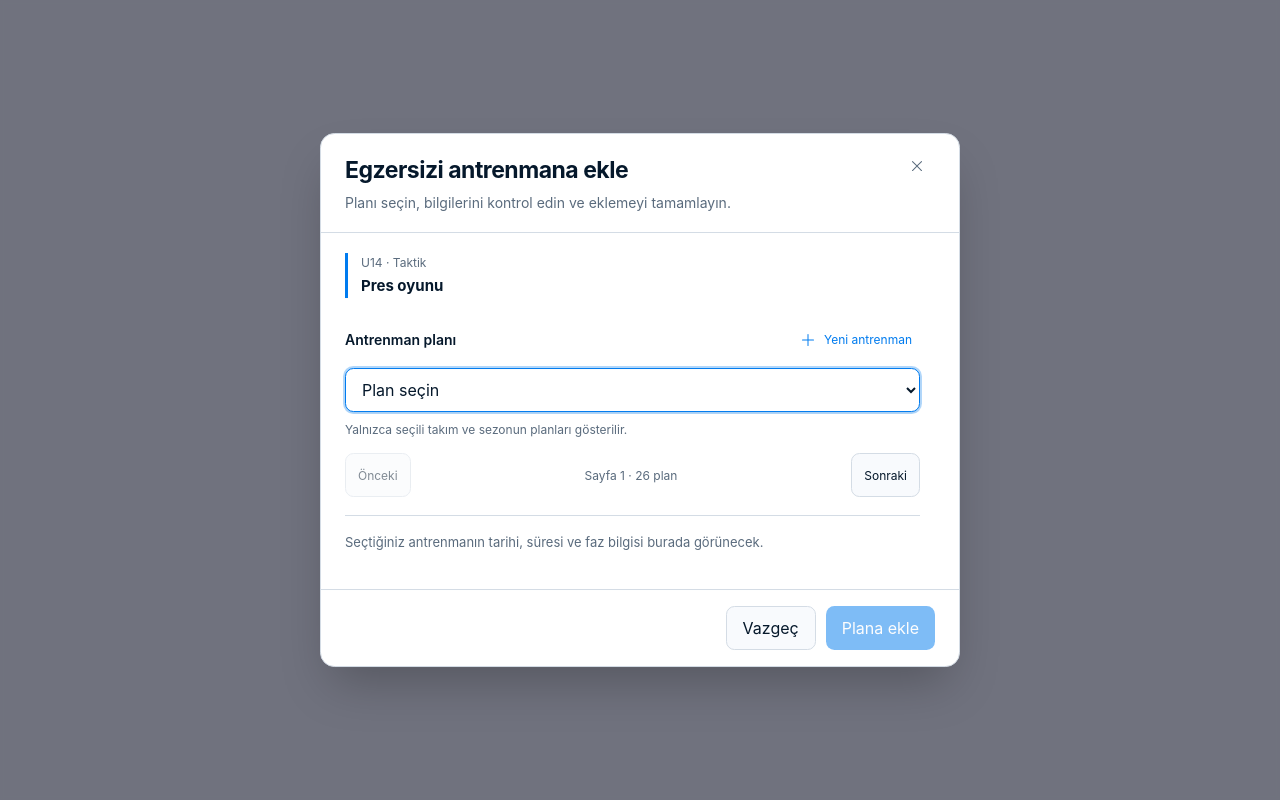
Test case: ready exercise planning › keeps the chosen plan and exercise context when browsing another option page
This screenshot has width=1280, height=800.
Expected: the element named "Eklenecek egzersiz" reads "U14 · Taktik Pres oyunu", [345,253,920,298]
Select "Salı antrenmanı" in the dropdown labelled "Antrenman planı". click: (632, 390)
box: [345,368,920,412]
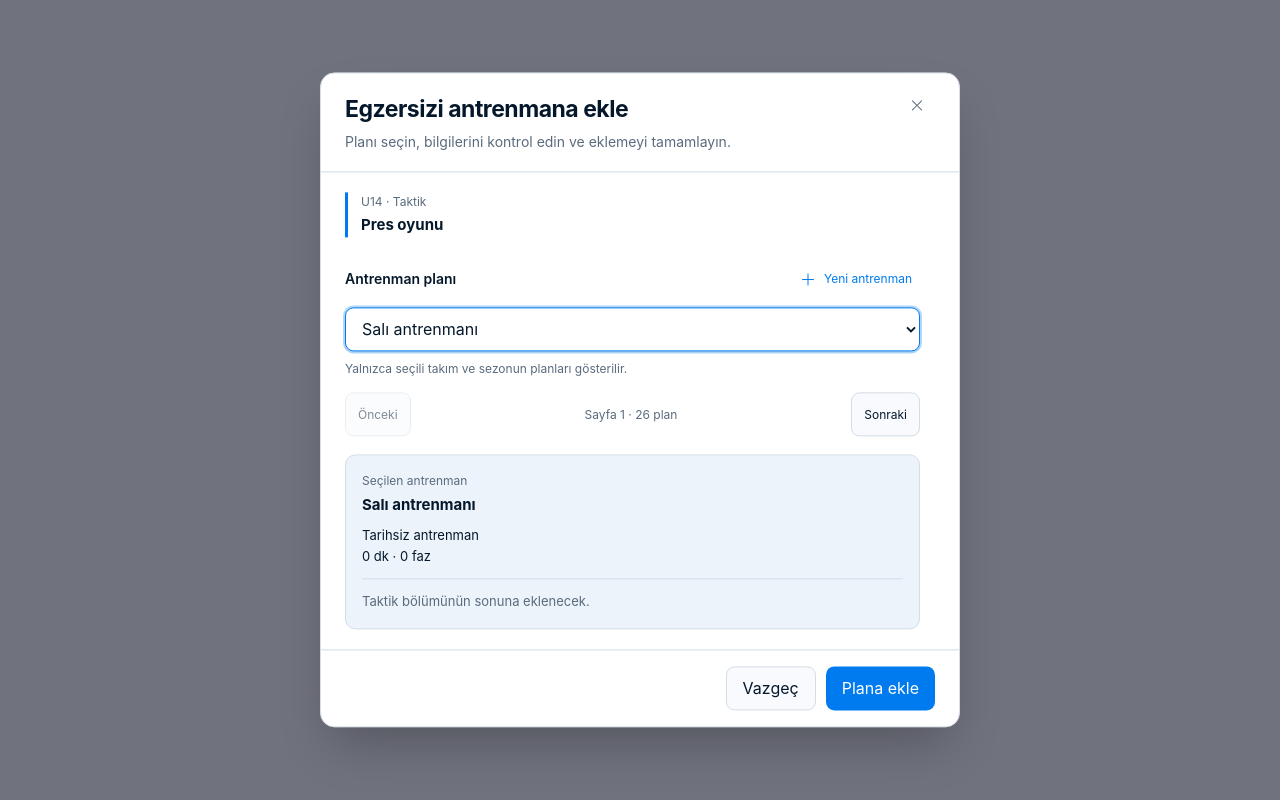
Result: the element named "Seçilen antrenman özeti" is shown at [345,454,920,630]
Click the button "Sonraki". click: (886, 414)
box: [851,392,920,436]
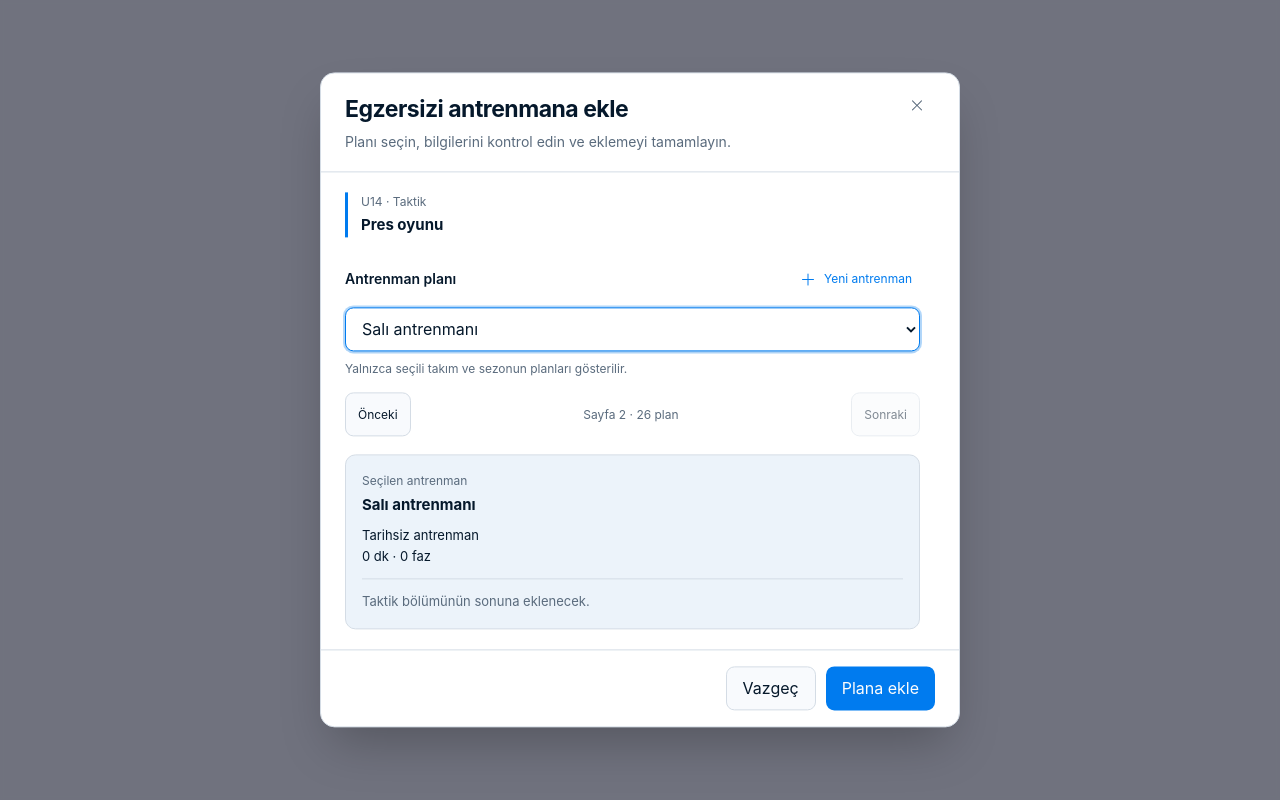
Result: the text "Taktik bölümünün sonuna eklenecek." is shown at [362,579,903,613]
Result: the button "Plana ekle" is enabled at [826,667,935,711]
Result: the text "Sayfa 2 · 26 plan" is shown at [583,405,679,424]
